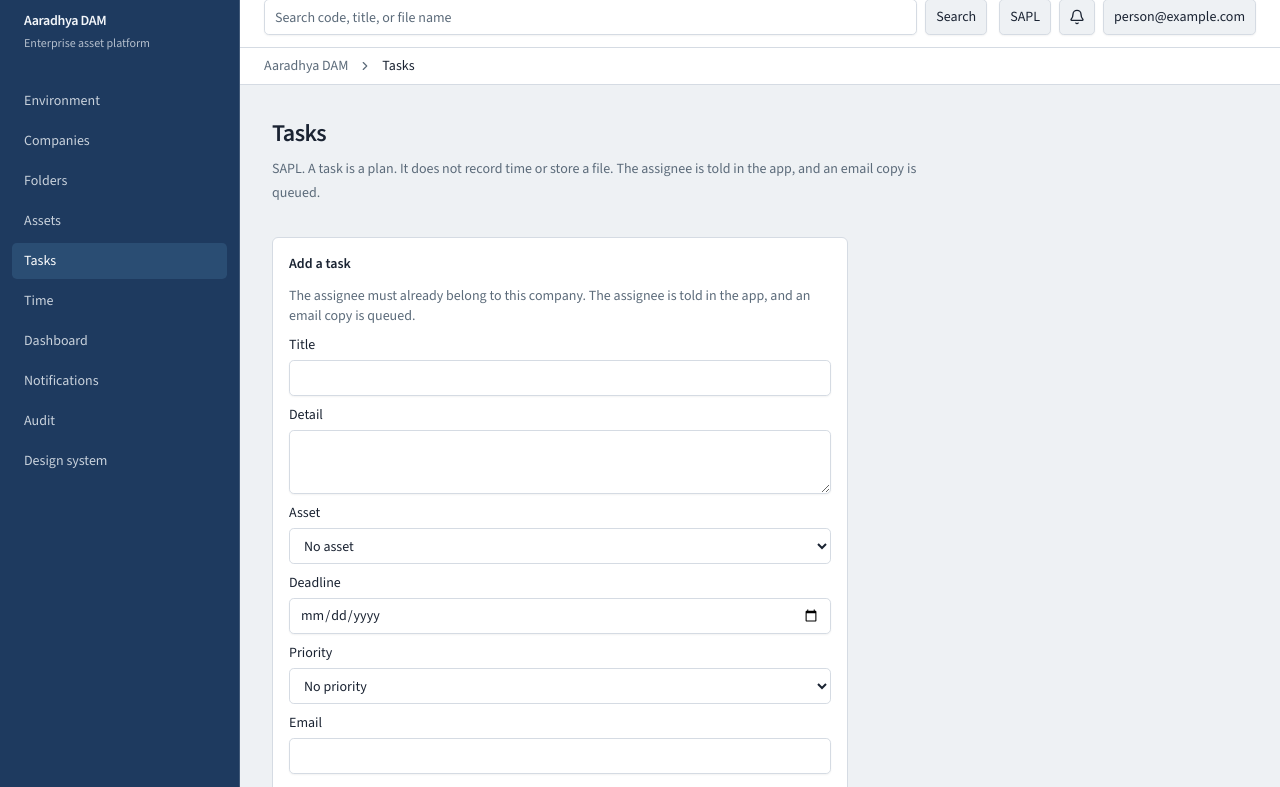
Scenario: TasksPage › adds a task and says time was not recorded
Expected: the heading "Add a task" is shown, [289,254,351,273]
Type "Crop the poster" into the field labelled "Title".
click(560, 378); type("Crop the poster")  # box [289,360,831,396]
(page scrolled)
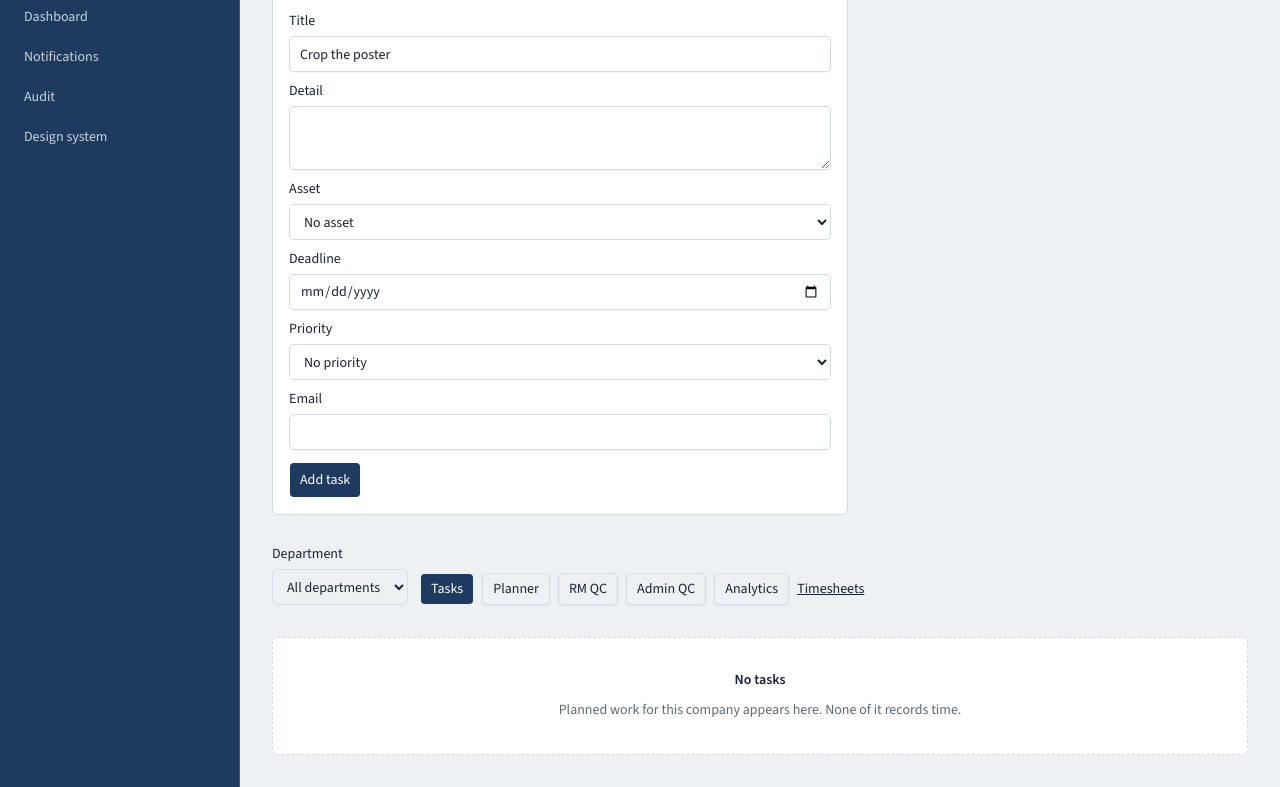
Click the button "Add task".
click(325, 480)  # box [289,462,361,498]
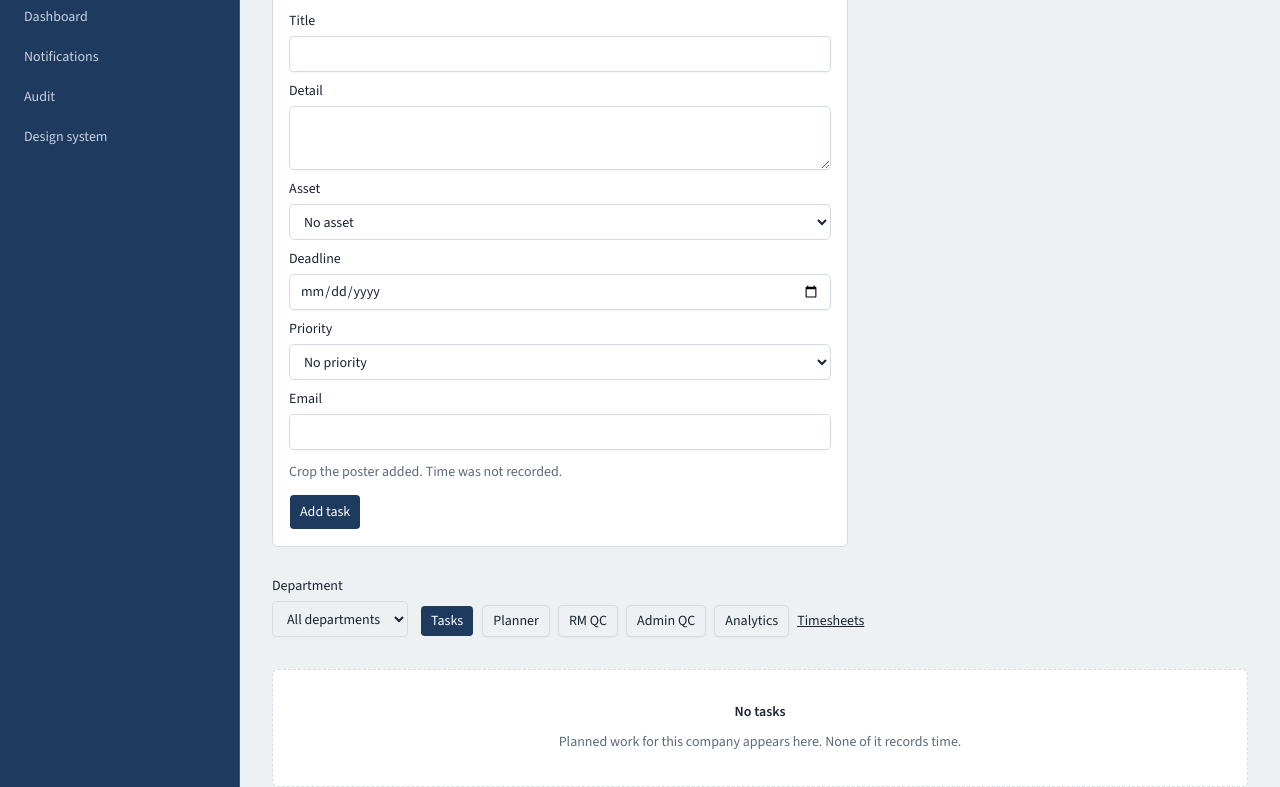
Expected: the text "Crop the poster added. Time was not recorded." is shown, [289,462,562,481]
